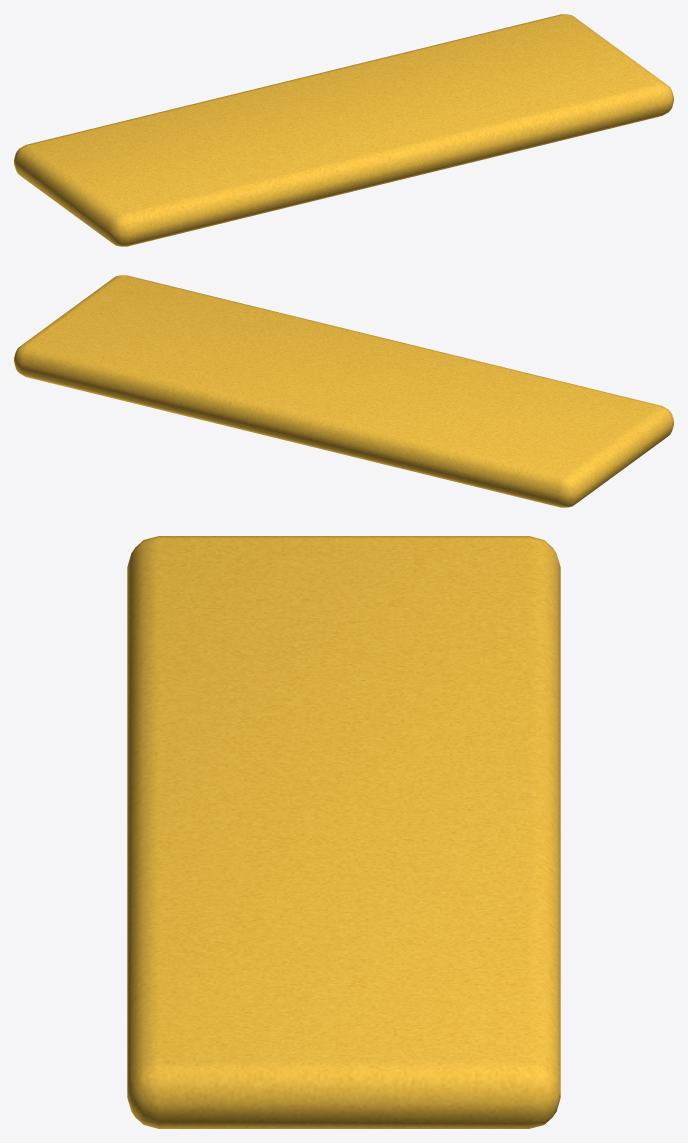
File: pastel_blanket_01.glb
3 views of the same model, one above another, from view 1: azimuth 30°, elevation 25°; view 2: azimuth 150°, elevation 25°; view 3: azimuth 270°, elevation 25° (orthographic). The views are drawn at different scales.
Parts seen in each view (by area): view 1: pastel_blanket_01; view 2: pastel_blanket_01; view 3: pastel_blanket_01.
Boxes of the visible parts, x1,y1,x2,y2 form: pastel_blanket_01: (14,14,673,246); pastel_blanket_01: (14,275,673,507); pastel_blanket_01: (127,536,560,1128).
Size of the model in its own units: 1.65 by 0.09 by 0.55.
Materials: 1 (1 with a texture image).
